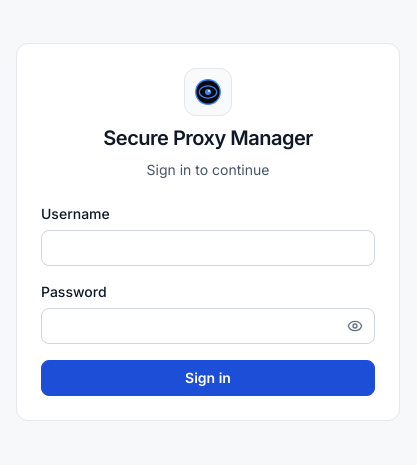
Test: Login › shows Invalid username or password on 401
Type "admin" into the field labelled "Username" at coordinates (208, 248), box [41,230,375,266]
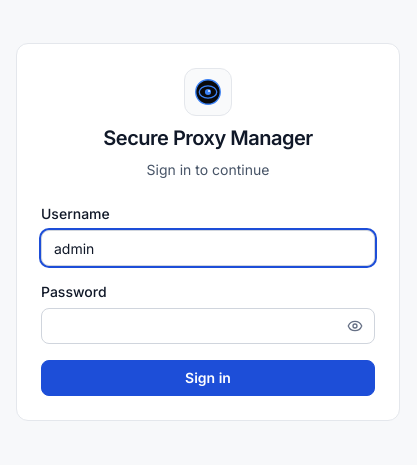
Type "wrong" into the password field labelled "Password" at coordinates (208, 326), box [41,308,375,344]
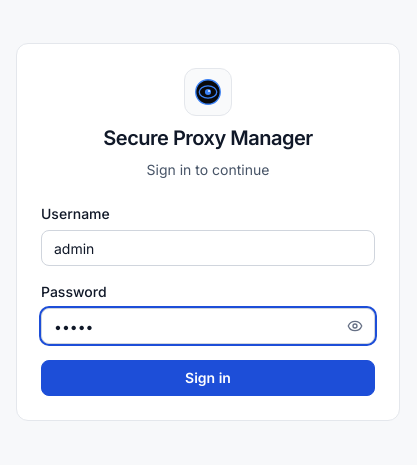
Click the button "Sign in" at coordinates (208, 378), box [41,360,375,396]
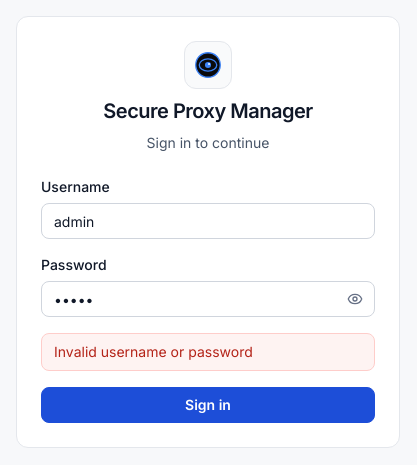
Expected: the message reads "Invalid username or password", [54,343,253,360]
